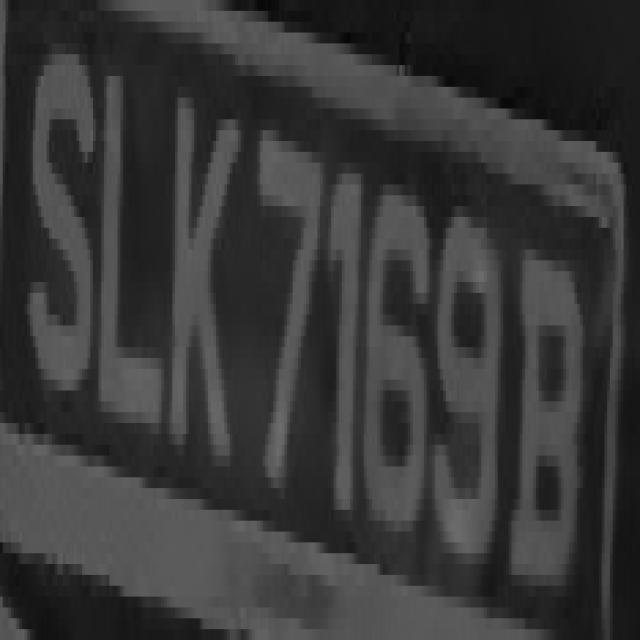1: (320, 119, 364, 586)
6: (372, 130, 429, 542)
7: (246, 65, 320, 542)
9: (435, 195, 506, 586)
B: (509, 217, 588, 597)
K: (167, 43, 235, 499)
L: (90, 22, 167, 466)
S: (16, 0, 93, 434)
